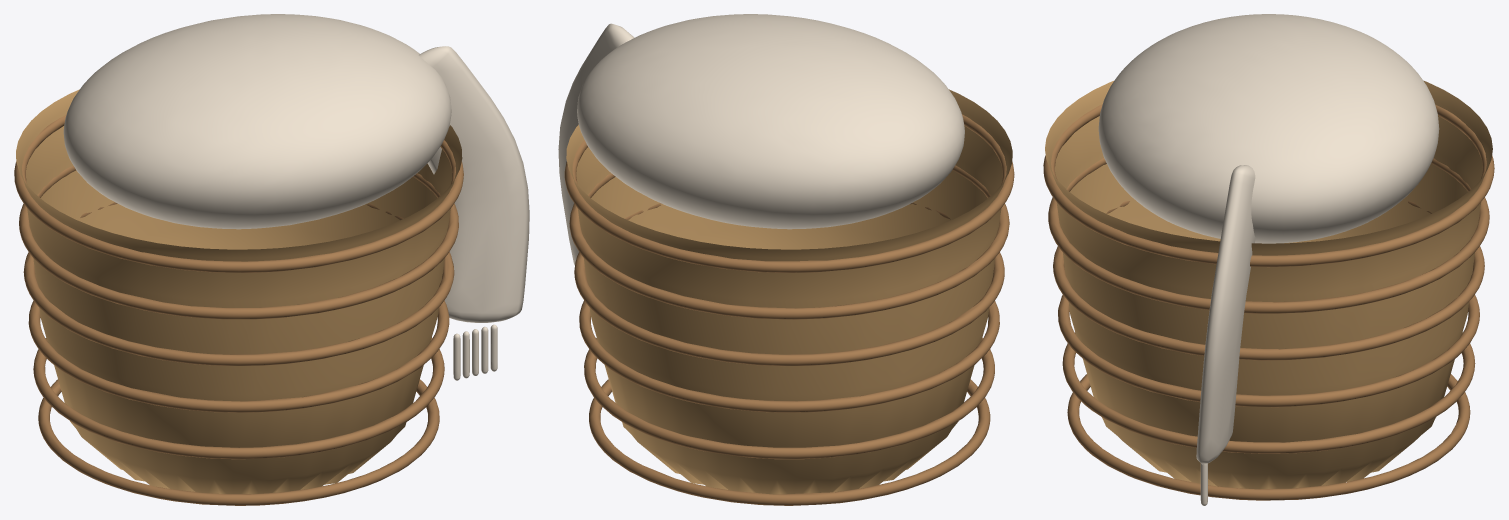
File: deco_canasta_manta.glb
The picture shows the model from 3 angles, left to right: view 1: azimuth 30°, elevation 25°; view 2: azimuth 150°, elevation 25°; view 3: azimuth 270°, elevation 25°; orthographic projection.
Visible parts, largest first — view 1: canasta manta.001, manta doblada.001, manta cae.001, tejido 5.001, tejido 4.001, tejido 3.001, tejido 2.001, tejido 0.001, tejido 1.001; view 2: canasta manta.001, manta doblada.001, tejido 5.001, tejido 4.001, tejido 3.001, tejido 0.001, tejido 2.001, tejido 1.001, manta cae.001; view 3: canasta manta.001, manta doblada.001, manta cae.001, tejido 5.001, tejido 4.001, tejido 0.001, tejido 3.001, tejido 2.001, tejido 1.001.
Part boxes in pixels (x1=…): canasta manta.001: x1=16, y1=89, x2=462, y2=494; manta doblada.001: x1=63, y1=14, x2=451, y2=229; manta cae.001: x1=419, y1=46, x2=529, y2=322; tejido 5.001: x1=14, y1=114, x2=463, y2=272; tejido 4.001: x1=19, y1=166, x2=458, y2=319; tejido 3.001: x1=23, y1=202, x2=454, y2=365; tejido 2.001: x1=28, y1=300, x2=449, y2=412; tejido 0.001: x1=38, y1=379, x2=439, y2=505; tejido 1.001: x1=33, y1=337, x2=444, y2=459; canasta manta.001: x1=566, y1=89, x2=1012, y2=494; manta doblada.001: x1=577, y1=14, x2=964, y2=229; tejido 5.001: x1=564, y1=114, x2=1014, y2=272; tejido 4.001: x1=569, y1=165, x2=1009, y2=319; tejido 3.001: x1=574, y1=202, x2=1004, y2=366; tejido 0.001: x1=589, y1=379, x2=990, y2=505; tejido 2.001: x1=579, y1=300, x2=999, y2=412; tejido 1.001: x1=584, y1=338, x2=994, y2=459; manta cae.001: x1=558, y1=23, x2=634, y2=265; canasta manta.001: x1=1045, y1=80, x2=1492, y2=489; manta doblada.001: x1=1098, y1=14, x2=1439, y2=243; manta cae.001: x1=1196, y1=165, x2=1255, y2=464; tejido 5.001: x1=1043, y1=104, x2=1494, y2=267; tejido 4.001: x1=1048, y1=158, x2=1489, y2=313; tejido 0.001: x1=1067, y1=374, x2=1470, y2=500; tejido 3.001: x1=1053, y1=200, x2=1484, y2=360; tejido 2.001: x1=1058, y1=295, x2=1479, y2=407; tejido 1.001: x1=1062, y1=332, x2=1475, y2=453.
Size of the model in its own units: 0.4896 by 0.4192 by 0.4193.
